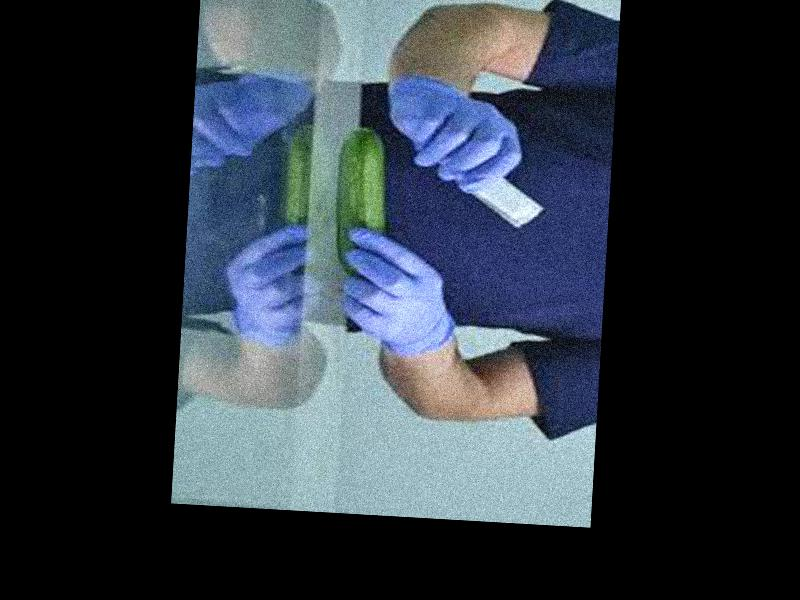Cucumber: (331, 125, 390, 275)
